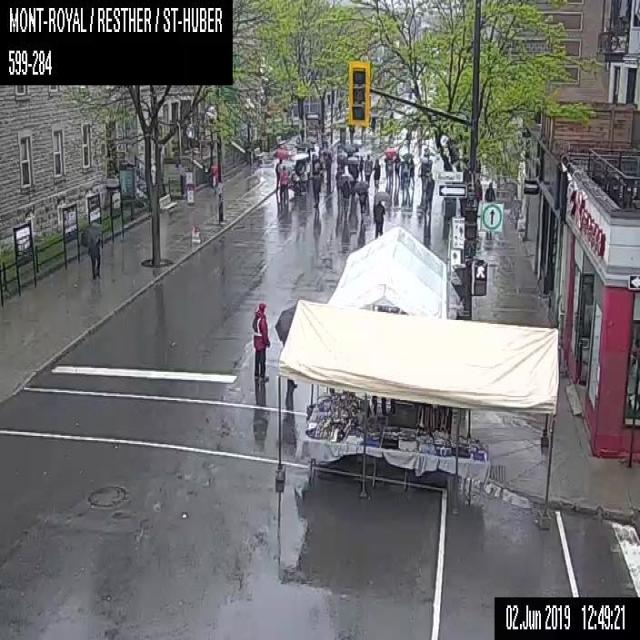pedestrian: (251, 302, 270, 382), (80, 220, 102, 279), (272, 149, 286, 201), (373, 189, 387, 237), (354, 181, 369, 221), (384, 148, 396, 190), (424, 172, 435, 213), (339, 174, 348, 217), (312, 162, 320, 206), (335, 165, 343, 203), (363, 152, 372, 184), (324, 151, 332, 186), (299, 160, 307, 195), (279, 164, 286, 202), (372, 157, 380, 190), (386, 155, 393, 189), (393, 152, 399, 190), (484, 180, 494, 200), (408, 157, 414, 188), (405, 128, 411, 153), (370, 114, 378, 132), (358, 155, 363, 181), (348, 124, 354, 143)
